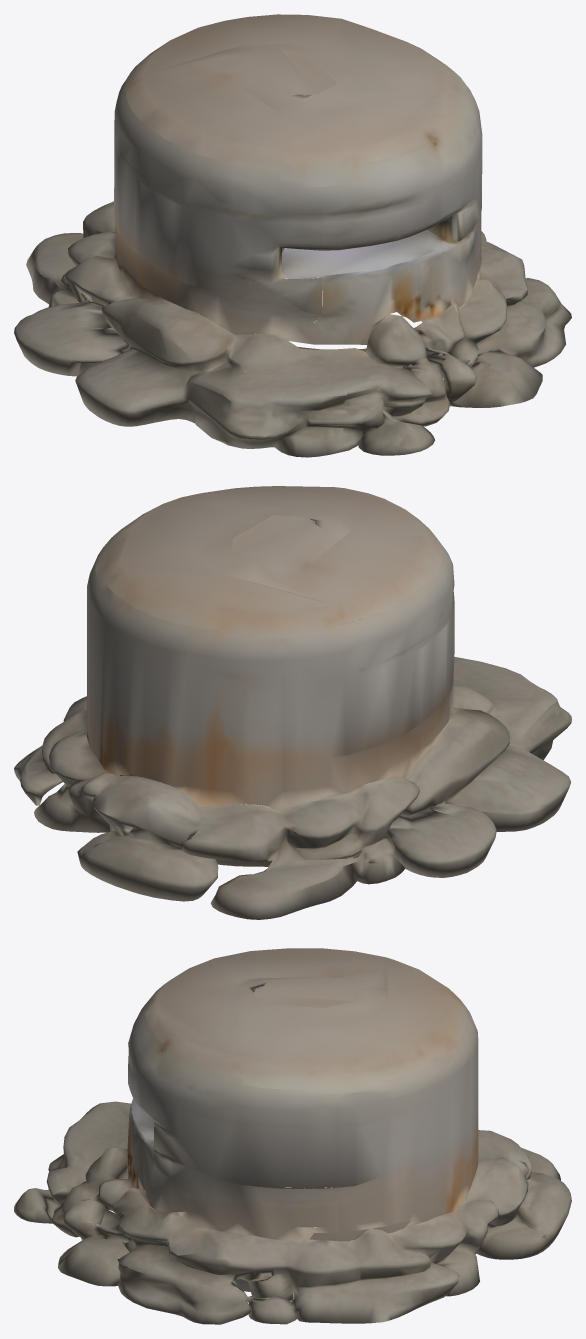
The picture shows the model from 3 angles, top to bottom: view 1: azimuth 30°, elevation 25°; view 2: azimuth 150°, elevation 25°; view 3: azimuth 270°, elevation 25°; orthographic projection. The views are drawn at different scales.
Visible parts, largest first — view 1: material; view 2: material; view 3: material.
Boxes of the visible parts, x1=… form: material: x1=14, y1=14, x2=571, y2=457; material: x1=14, y1=486, x2=571, y2=919; material: x1=14, y1=948, x2=571, y2=1324.
Bounding box in the file's own units: 1.67 × 0.8695 × 1.9.
1 material, 1 textured.
